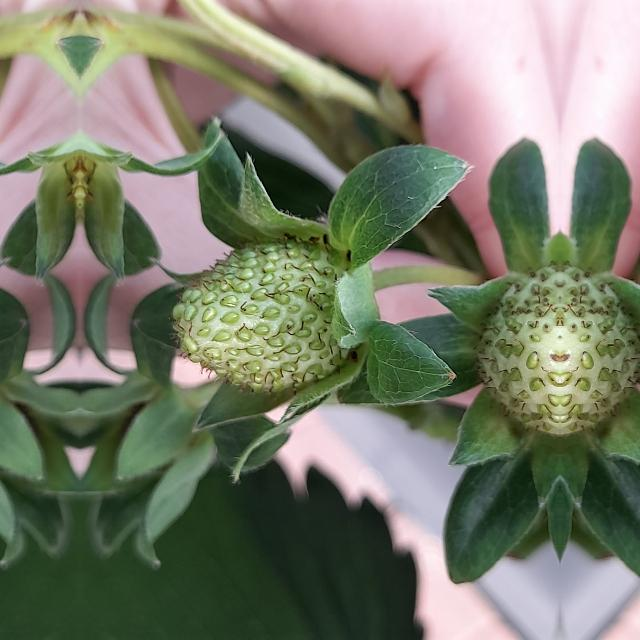Health_25: (170, 232, 358, 398), (480, 264, 560, 436), (560, 264, 640, 436)
